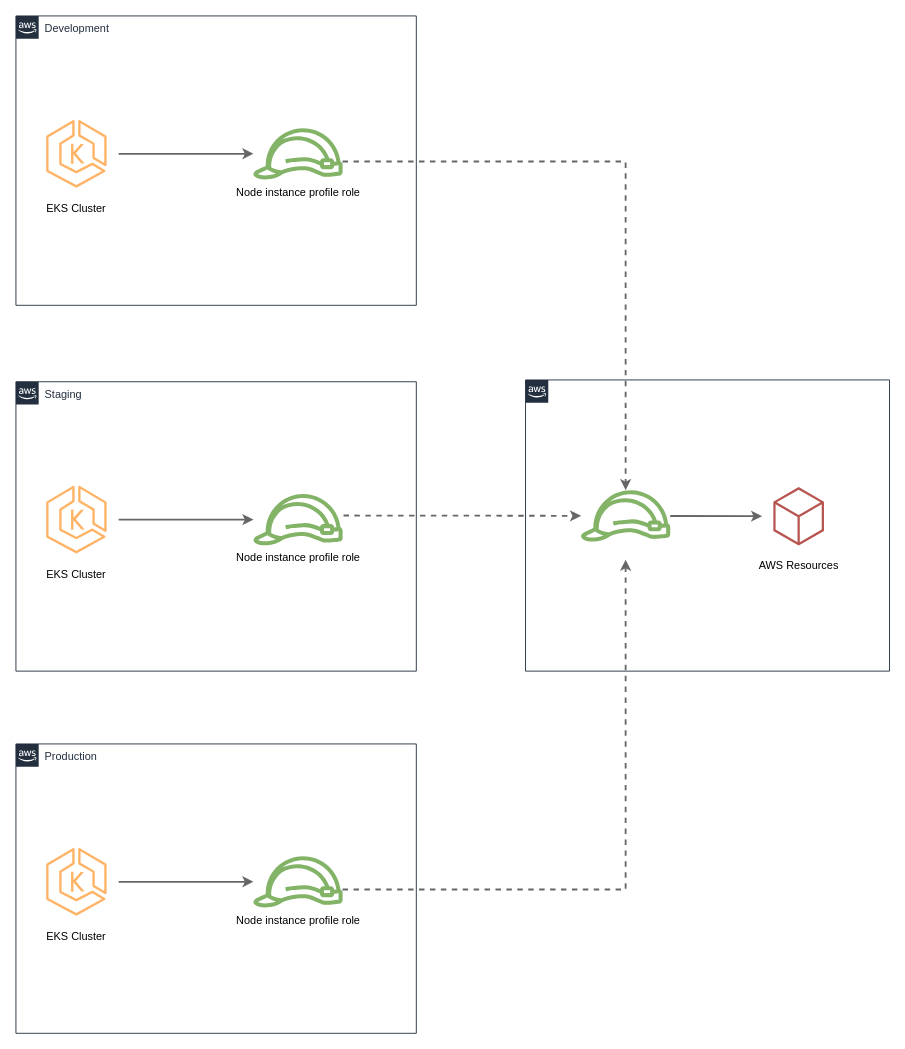
Some shapes in this 905 by 1049 pixel diagram are drawn without their labels. Each missing label, with the box of its shape:
IAM Role: (580, 490, 671, 541)
Shared: (525, 379, 890, 671)
